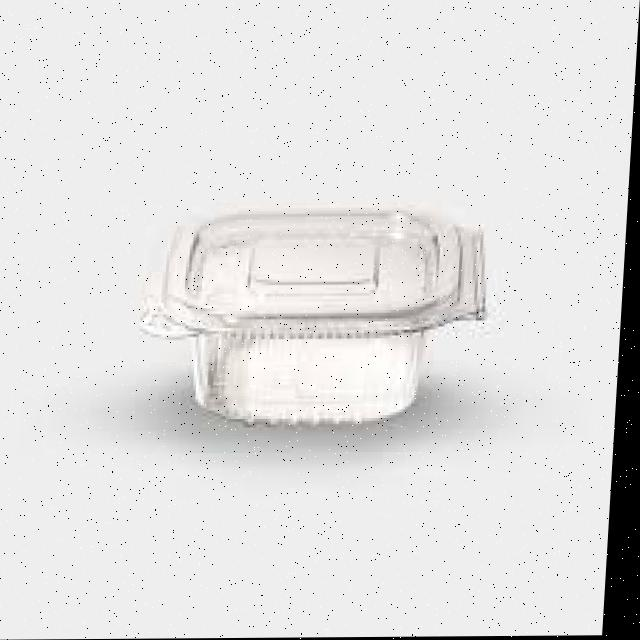disposable: (125, 200, 529, 458)
